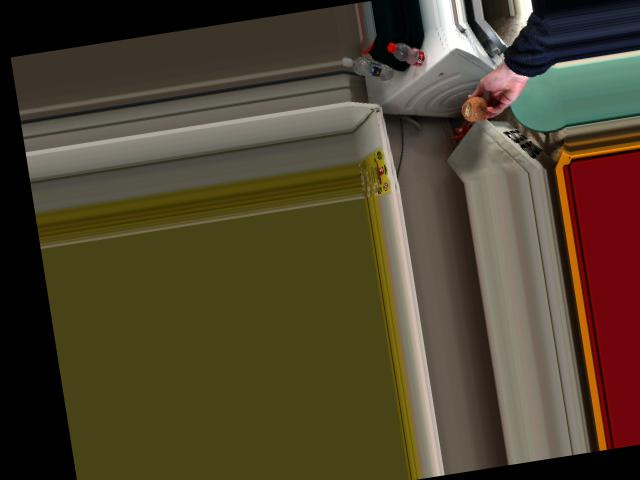sweet_potato: (460, 94, 492, 121)
